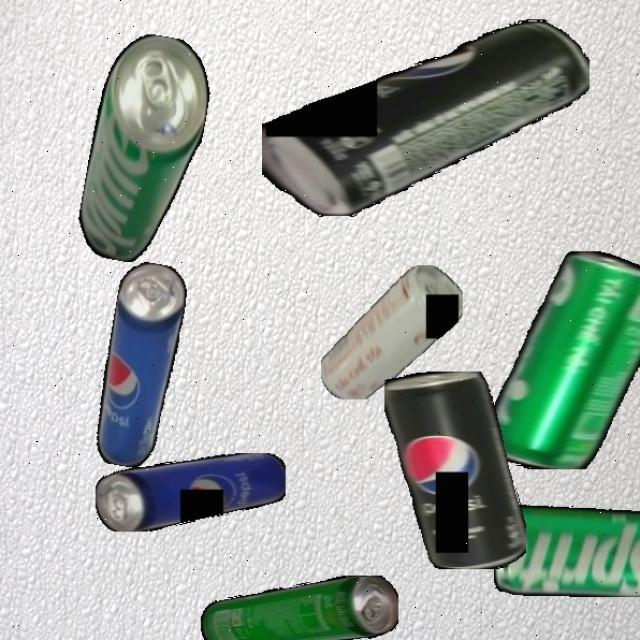debris: (261, 19, 589, 217), (73, 28, 218, 271), (485, 250, 640, 469), (384, 372, 526, 569), (89, 259, 191, 471), (320, 264, 463, 400), (493, 475, 640, 597), (96, 452, 286, 532), (199, 575, 398, 640)
